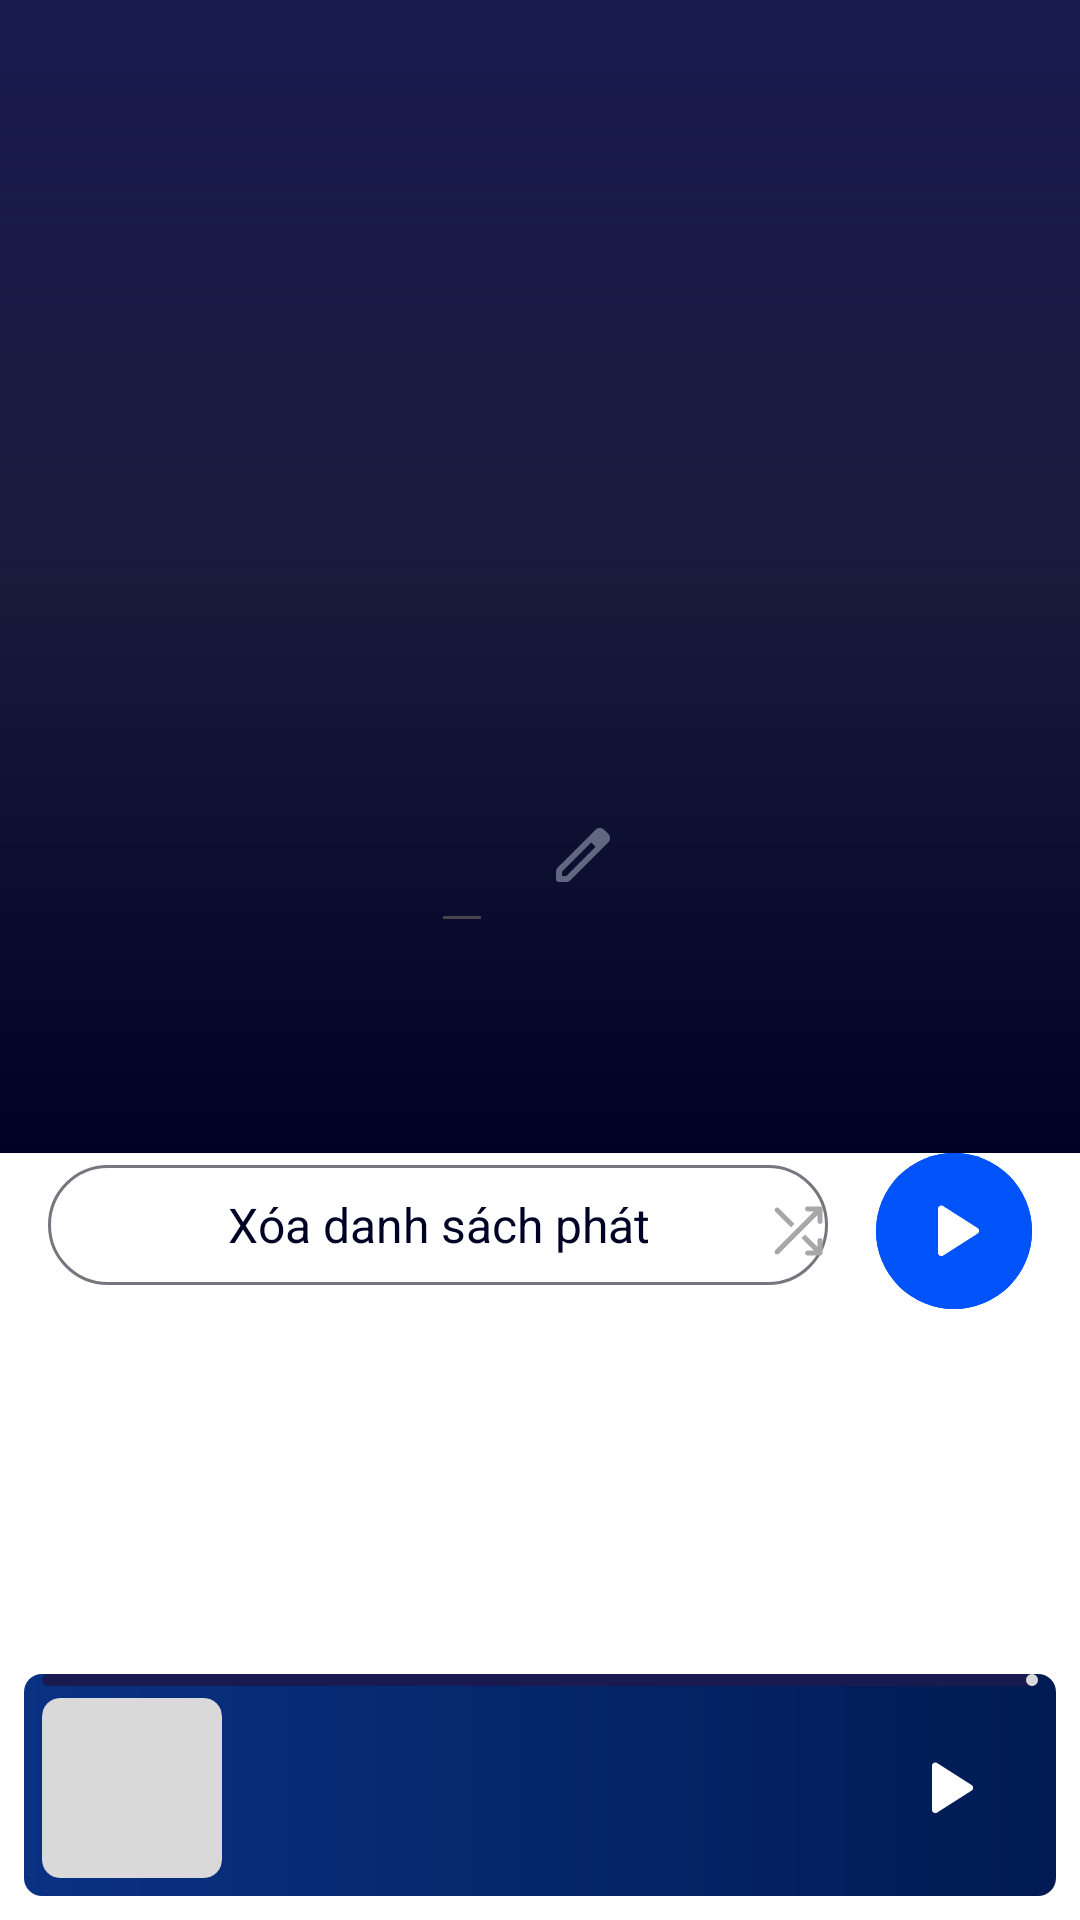

Icons on this 1080×1920 Android screen, each with the point to tap as [x,y]:
edit: [583,855]
play: [954,1231], [952,1787]
